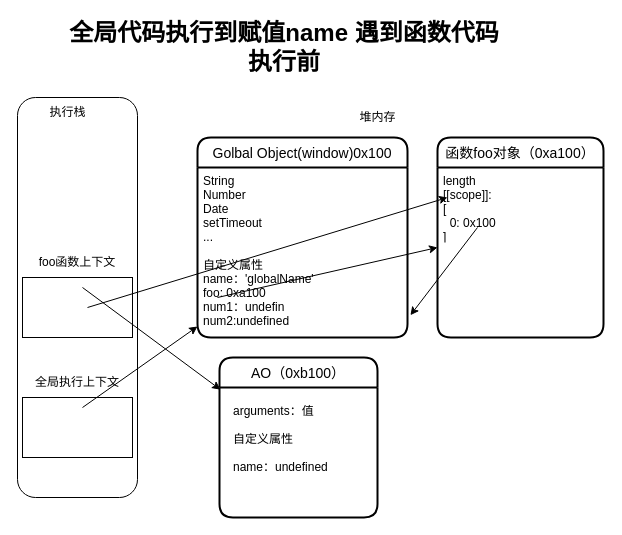
The diagram is 622 pixels wide and 535 high, and some of its shapes have lost their labels. Here are the shapes that lost their labels. From the top down, the centre of each, then its label:
the point at 77,307: VO scope chain this(window)
the point at 77,427: VO scope(无) this(window)
